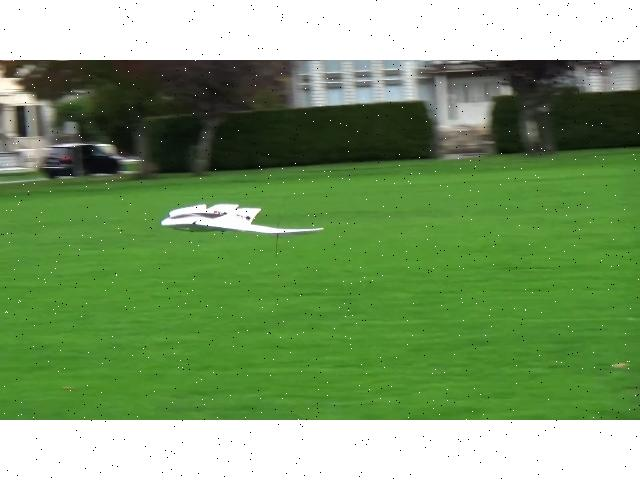Anti-Drone: (164, 205, 324, 235)
